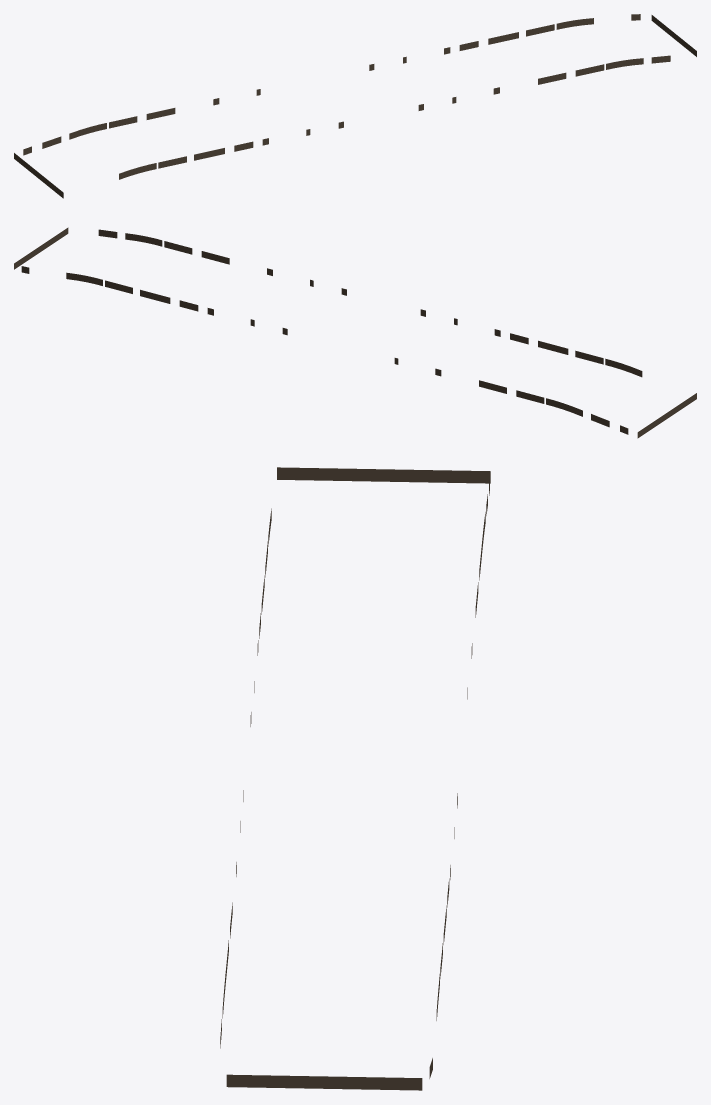
The picture shows the model from 3 angles, top to bottom: view 1: azimuth 30°, elevation 25°; view 2: azimuth 150°, elevation 25°; view 3: azimuth 270°, elevation 25°; orthographic projection. The views are drawn at different scales.
Parts seen in each view (by area): view 1: prototype; view 2: prototype; view 3: prototype.
Boxes of the visible parts, bbox=[...] form: prototype: bbox=[14, 14, 696, 198]; prototype: bbox=[14, 227, 696, 438]; prototype: bbox=[220, 467, 490, 1090].
Size of the model in its own units: 33.67 by 0.8301 by 6.32.
